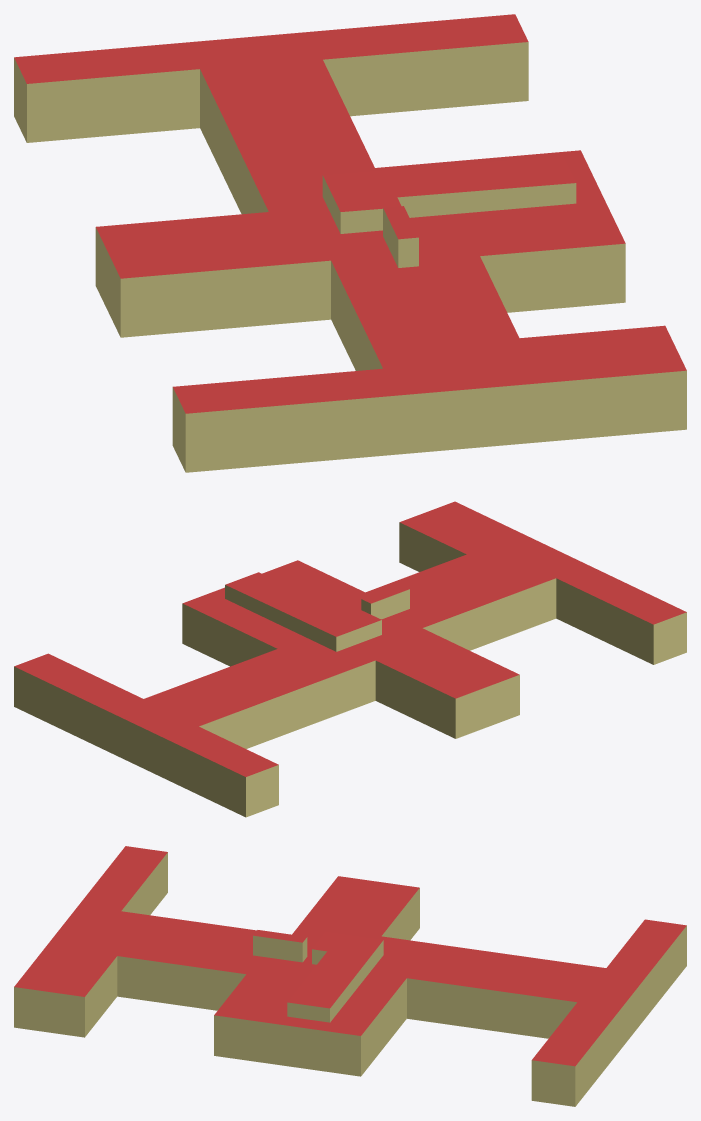
3 renders of one model, top to bottom at view 1: azimuth 30°, elevation 25°; view 2: azimuth 150°, elevation 25°; view 3: azimuth 270°, elevation 25°, orthographic. The views are drawn at different scales.
Size of the model in its own units: 83.18 by 107 by 10.63.
